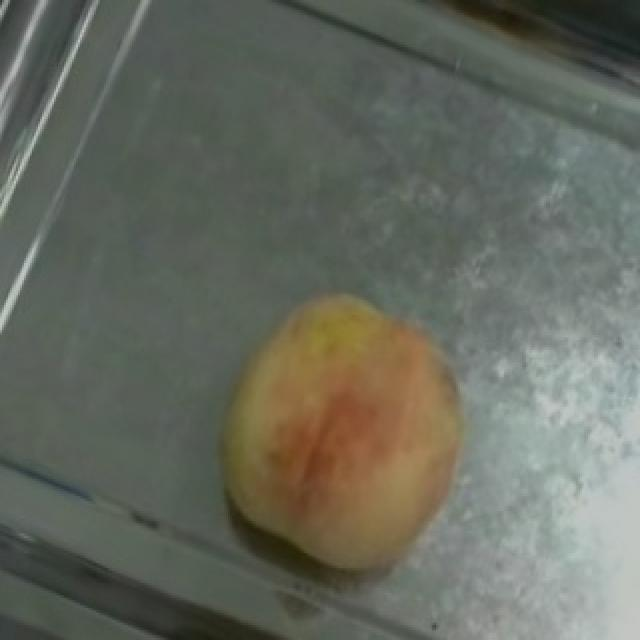Fruit: (170, 250, 498, 612)
